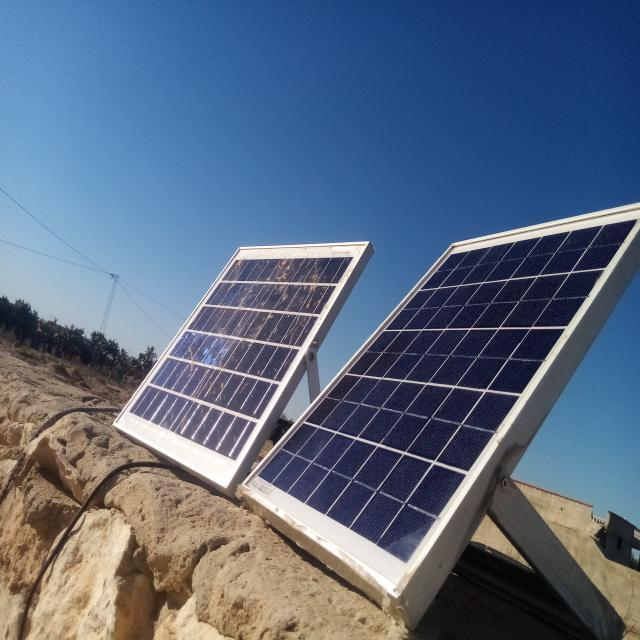faulty: (115, 244, 370, 491)
no faulty: (240, 200, 640, 595)
